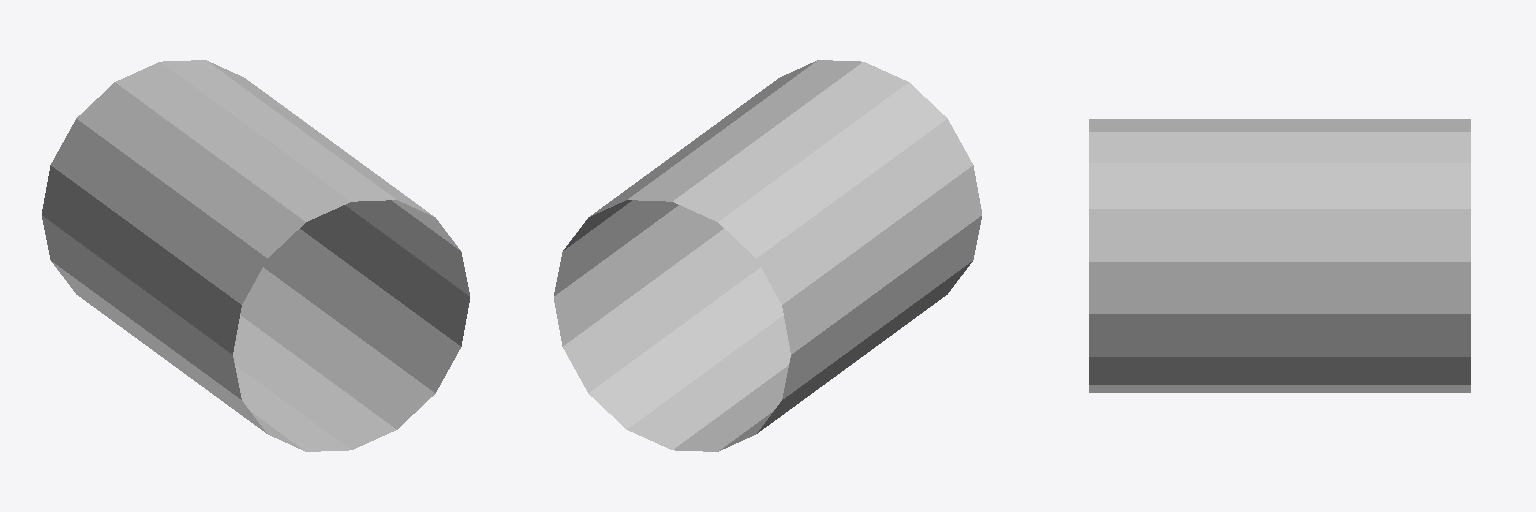
The model's file is TARDIS-light.obj.
The picture shows the model from 3 angles: view 1: azimuth 30°, elevation 25°; view 2: azimuth 150°, elevation 25°; view 3: azimuth 270°, elevation 25°; orthographic projection.
Parts seen in each view (by area): view 1: Cylinder.001_Cylinder.005; view 2: Cylinder.001_Cylinder.005; view 3: Cylinder.001_Cylinder.005.
Part boxes in pixels (x1,y1,x2,y2): Cylinder.001_Cylinder.005: (42,60,469,451); Cylinder.001_Cylinder.005: (554,60,981,451); Cylinder.001_Cylinder.005: (1089,119,1470,392).
Size of the model in its own units: 1.72 by 1.72 by 2.4.